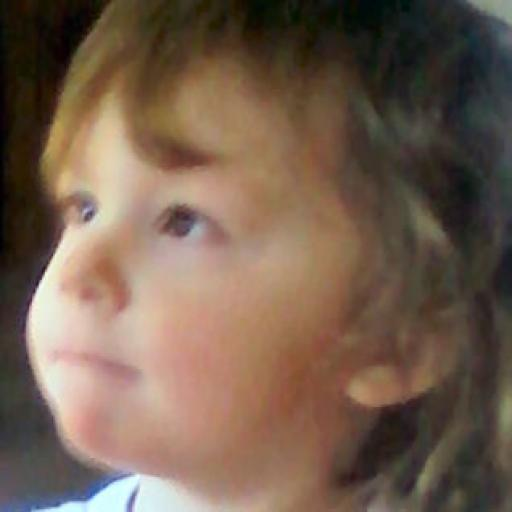Autism: (18, 18, 512, 486)
